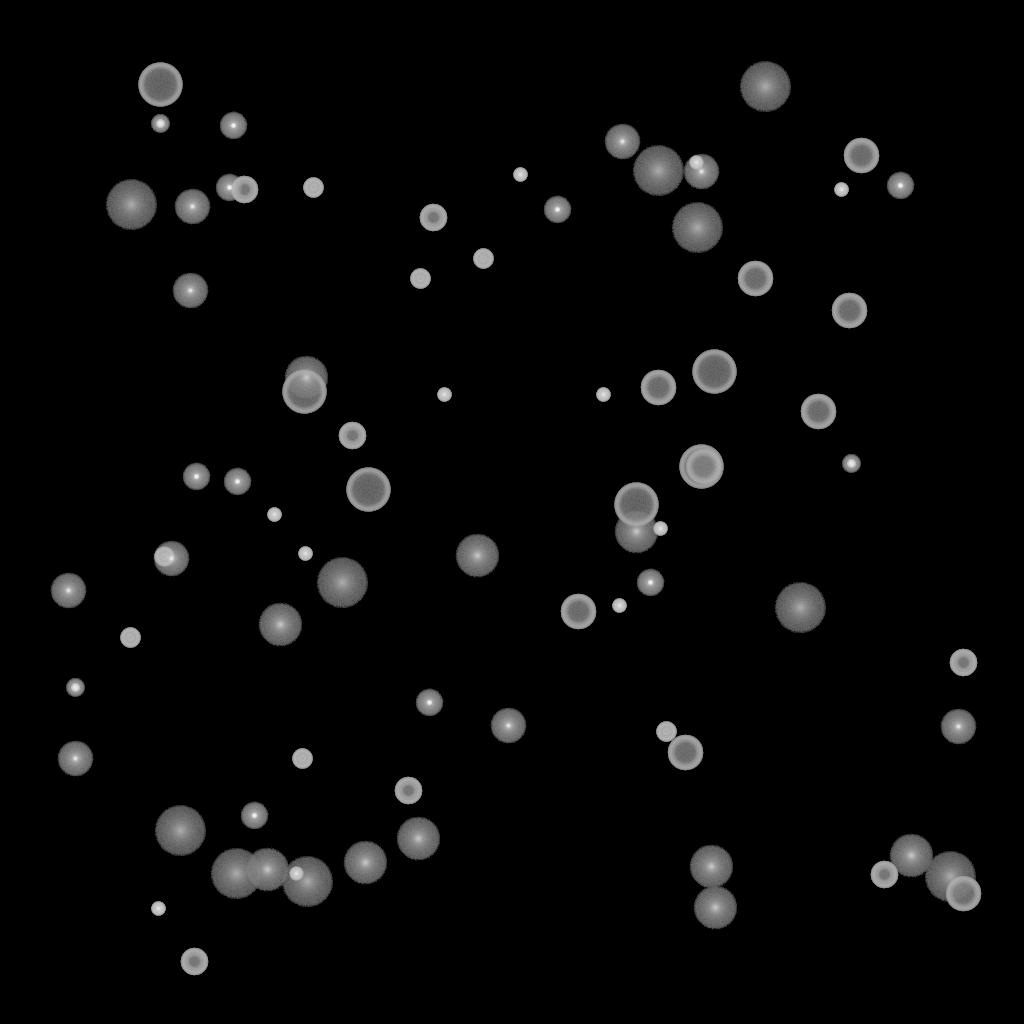depth:-10: (543, 196, 571, 224), (886, 172, 914, 200), (636, 569, 664, 597), (219, 112, 247, 140), (415, 689, 443, 717), (223, 468, 251, 496), (182, 463, 210, 491), (215, 174, 243, 202), (240, 802, 268, 830)
depth:-20: (66, 679, 84, 697), (151, 115, 169, 133), (842, 455, 860, 473)
depth:-30: (689, 156, 703, 170), (653, 522, 667, 536), (151, 902, 165, 916), (298, 547, 312, 561), (834, 183, 848, 197), (513, 168, 527, 182), (437, 388, 451, 402), (289, 867, 303, 881), (612, 599, 626, 613), (596, 388, 610, 402), (267, 508, 281, 522)
depth:-40: (120, 628, 140, 648), (410, 269, 430, 289), (292, 749, 312, 769), (473, 249, 493, 269), (154, 547, 174, 567), (656, 722, 676, 742), (303, 178, 323, 198)
depth:-50: (338, 422, 366, 450), (394, 777, 422, 805), (230, 176, 258, 204), (870, 861, 898, 889), (949, 649, 977, 677), (419, 204, 447, 232), (180, 948, 208, 976)
depth:-60: (800, 394, 836, 430), (667, 735, 703, 771), (737, 261, 773, 297), (831, 293, 867, 329), (640, 370, 676, 406), (560, 594, 596, 630), (843, 138, 879, 174), (685, 449, 721, 485), (945, 876, 981, 912)
depth:-70: (138, 63, 182, 107), (614, 483, 658, 527), (692, 350, 736, 394), (679, 445, 723, 489), (346, 468, 390, 512), (282, 370, 326, 414)
depth:0: (50, 573, 86, 609), (683, 154, 719, 190), (940, 709, 976, 745), (604, 124, 640, 160), (174, 189, 210, 225), (490, 708, 526, 744), (172, 273, 208, 309), (57, 741, 93, 777), (153, 541, 189, 577)
depth:10: (343, 841, 387, 885), (455, 534, 499, 578), (689, 845, 733, 889), (889, 834, 933, 878), (284, 356, 328, 400), (396, 817, 440, 861), (258, 603, 302, 647), (614, 510, 658, 554), (693, 886, 737, 930), (245, 848, 289, 892)
depth:20: (105, 180, 157, 230), (774, 583, 826, 633), (671, 203, 723, 253), (154, 806, 206, 856), (210, 849, 262, 899), (316, 558, 368, 608), (632, 146, 684, 196), (924, 852, 976, 902), (281, 857, 333, 907), (739, 62, 791, 112)
